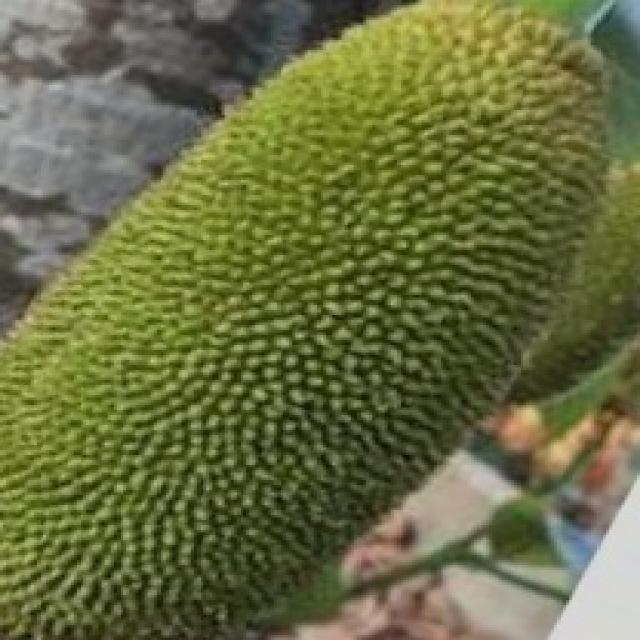Fruit: (240, 0, 640, 405), (0, 302, 400, 640)
